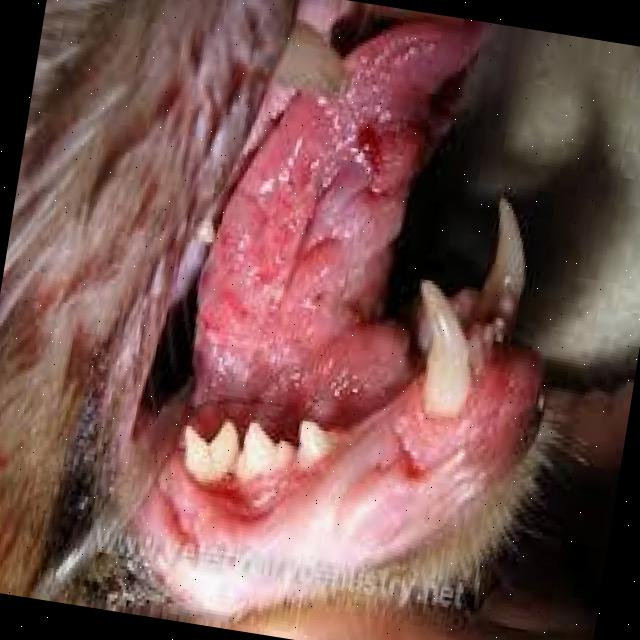cat-ulcer: (202, 98, 352, 416), (346, 122, 394, 183)
